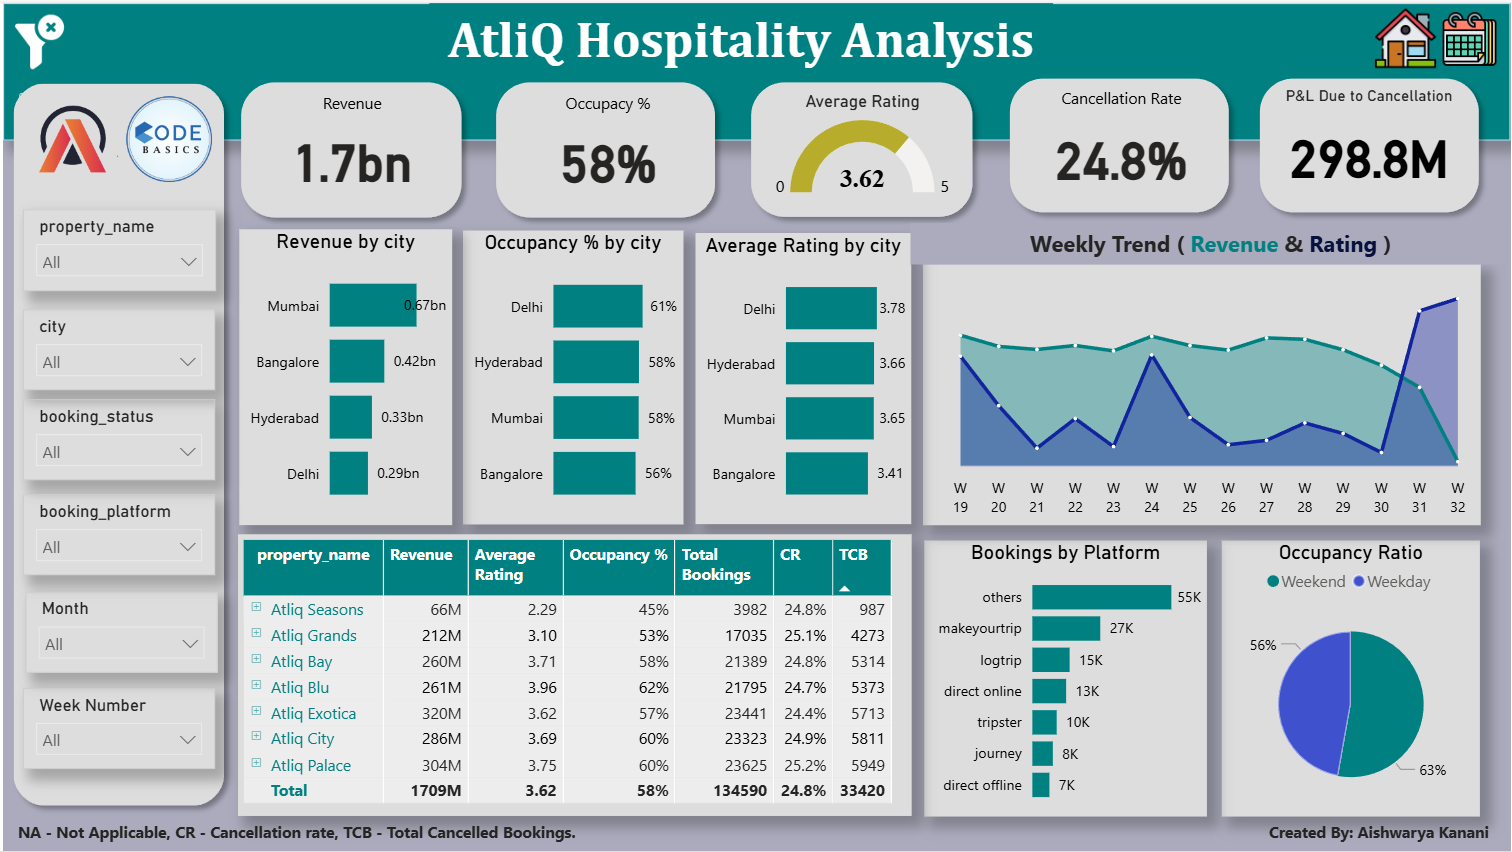

What the dashboard file says about the page in this screenshot:
{"tool":"powerbi","page":{"name":"Overall","canvas":[1280,720],"ordinal":1},"visuals":[{"type":"pieChart","title":"Occupancy Ratio","fields":{"Category":["dim_date.day type_new"],"Y":["fact_aggregated_bookings.Occupancy %"]},"box":[1035.1,456,219.6,234],"z":0},{"type":"barChart","title":"Bookings by Platform","fields":{"Y":["fact_bookings.Total Bookings"],"Category":["fact_bookings.booking_platform"]},"box":[781.8,456,240.1,234],"z":1000},{"type":"barChart","fields":{"Y":["fact_aggregated_bookings.Occupancy %"],"Category":["dim_hotels.city"]},"box":[390.9,193,187,249.7],"z":2000},{"type":"barChart","fields":{"Y":["fact_bookings.Revenue"],"Category":["dim_hotels.city"]},"box":[200.3,191.8,181,250.9],"z":3000},{"type":"lineChart","fields":{"Category":["dim_date.Week Number"],"Y":["fact_bookings.Revenue"],"Y2":["fact_bookings.Average Rating"]},"box":[780.7,221.8,473.4,221.8],"z":4000},{"type":"shape","box":[0,0,1280,116.9],"z":5000},{"type":"textbox","box":[361.9,0,529.6,80.8],"z":6000},{"type":"shape","box":[0,59.1,196.6,631],"z":7000},{"type":"image","title":"atliq","box":[13.6,76.4,85.1,78.3],"z":8000},{"type":"image","title":"codebasics","box":[98.7,76.4,85.1,78.3],"z":9000},{"type":"slicer","fields":{"Values":["dim_hotels.property_name"]},"box":[17.1,175.5,163.9,69.7],"z":10000},{"type":"slicer","fields":{"Values":["dim_hotels.city"]},"box":[17,260.1,163,69],"z":11000},{"type":"slicer","fields":{"Values":["fact_bookings.booking_status"]},"box":[17,336.8,163,69],"z":12000},{"type":"slicer","fields":{"Values":["fact_bookings.booking_platform"]},"box":[17,416.8,163,69],"z":13000},{"type":"slicer","fields":{"Values":["dim_date.Month"]},"box":[19,500.2,163,69],"z":14000},{"type":"slicer","fields":{"Values":["dim_date.wn"]},"box":[17,581.9,163,69],"z":15000},{"type":"shape","box":[626.4,57.9,205.9,132.2],"z":16000},{"type":"shape","box":[193.5,58.8,205.1,132.7],"z":17000},{"type":"card","fields":{"Values":["fact_bookings.Revenue"]},"box":[214.1,71,164.2,103],"z":18000},{"type":"gauge","title":"Average Rating","fields":{"Y":["fact_bookings.Average Rating"]},"box":[645.8,74.6,167,100.2],"z":19000},{"type":"shape","box":[409.2,57.9,203.9,132.7],"z":20000},{"type":"card","fields":{"Values":["fact_aggregated_bookings.Occupancy %"]},"box":[448.8,71.2,129.1,105],"z":21000},{"type":"barChart","fields":{"Y":["fact_bookings.Average Rating"],"Category":["dim_hotels.city"]},"box":[587.5,195.4,183.4,247.3],"z":22000},{"type":"image","box":[7.6,4.5,47,57.6],"z":23000},{"type":"shape","box":[845.7,55.5,203.9,131.5],"z":24000},{"type":"shape","box":[1058,55.5,203.9,131.5],"z":25000},{"type":"card","fields":{"Values":["fact_bookings.CR"]},"box":[868.6,66.4,162.9,108.6],"z":26000},{"type":"card","title":" P&L Due to Cancellation","fields":{"Values":["fact_bookings.LDC"]},"box":[1069.9,71.3,180.3,103.7],"z":27000},{"type":"textbox","box":[770.3,186.7,509.7,35],"z":28000},{"type":"pivotTable","fields":{"Rows":["dim_hotels.property_name","dim_hotels.city"],"Values":["fact_bookings.Revenue","fact_bookings.Average Rating","fact_aggregated_bookings.Occupancy %","fact_bookings.Total Bookings","fact_bookings.CR","fact_bookings.Total cancelled bookings"]},"box":[199.1,451.2,571.9,238.9],"z":29000},{"type":"textbox","box":[7.2,690.1,518.8,30.2],"z":30000},{"type":"textbox","box":[1069.8,690.2,197.9,30.1],"z":31000},{"type":"image","box":[1160,4.3,61.4,51.4],"z":32000},{"type":"image","box":[1221.4,5.7,47.1,50],"z":33000}]}

Visuals, with their boxes in screenshot pixels (x1, y1, x2, y2), scaled from the page's 1280x720 canvas onto the 1512x852 screenshot:
"Occupancy Ratio" pieChart: box(1223, 540, 1482, 816)
"Bookings by Platform" barChart: box(924, 540, 1207, 816)
barChart - fact_aggregated_bookings.Occupancy % x dim_hotels.city: box(462, 228, 683, 524)
barChart - fact_bookings.Revenue x dim_hotels.city: box(237, 227, 450, 524)
lineChart - dim_date.Week Number x fact_bookings.Revenue: box(922, 262, 1481, 525)
shape: box(0, 0, 1511, 138)
textbox: box(427, 0, 1053, 96)
shape: box(0, 70, 232, 817)
"atliq" image: box(16, 90, 117, 183)
"codebasics" image: box(117, 90, 217, 183)
slicer - dim_hotels.property_name: box(20, 208, 214, 290)
slicer - dim_hotels.city: box(20, 308, 213, 389)
slicer - fact_bookings.booking_status: box(20, 399, 213, 480)
slicer - fact_bookings.booking_platform: box(20, 493, 213, 575)
slicer - dim_date.Month: box(22, 592, 215, 674)
slicer - dim_date.wn: box(20, 689, 213, 770)
shape: box(740, 69, 983, 225)
shape: box(229, 70, 471, 227)
card - fact_bookings.Revenue: box(253, 84, 447, 206)
"Average Rating" gauge: box(763, 88, 960, 207)
shape: box(483, 69, 724, 226)
card - fact_aggregated_bookings.Occupancy %: box(530, 84, 683, 209)
barChart - fact_bookings.Average Rating x dim_hotels.city: box(694, 231, 911, 524)
image: box(9, 5, 64, 73)
shape: box(999, 66, 1240, 221)
shape: box(1250, 66, 1491, 221)
card - fact_bookings.CR: box(1026, 79, 1218, 207)
" P&L Due to Cancellation" card: box(1264, 84, 1477, 207)
textbox: box(910, 221, 1511, 262)
pivotTable - dim_hotels.property_name x dim_hotels.city: box(235, 534, 911, 817)
textbox: box(9, 817, 621, 851)
textbox: box(1264, 817, 1497, 851)
image: box(1370, 5, 1443, 66)
image: box(1443, 7, 1498, 66)
